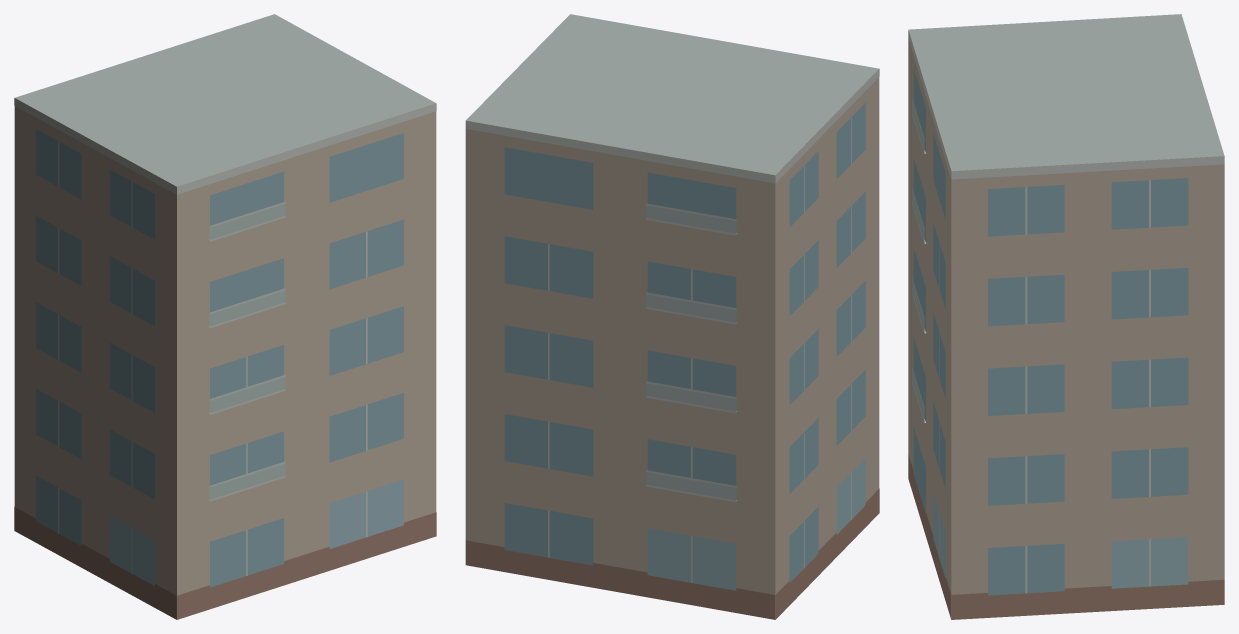
File: survey-upis-32530997.glb
3 renders of one model, left to right at view 1: azimuth 30°, elevation 25°; view 2: azimuth 150°, elevation 25°; view 3: azimuth 270°, elevation 25°, orthographic. The views are drawn at different scales.
Visible parts, largest first — view 1: survey-upis-32530997.tmp; view 2: survey-upis-32530997.tmp; view 3: survey-upis-32530997.tmp.
Part boxes in pixels (<box>): survey-upis-32530997.tmp: <box>14,14,436,619</box>; survey-upis-32530997.tmp: <box>465,14,879,619</box>; survey-upis-32530997.tmp: <box>908,14,1224,619</box>.
Bounding box in the file's own units: 10 × 13.3 × 8.51.
